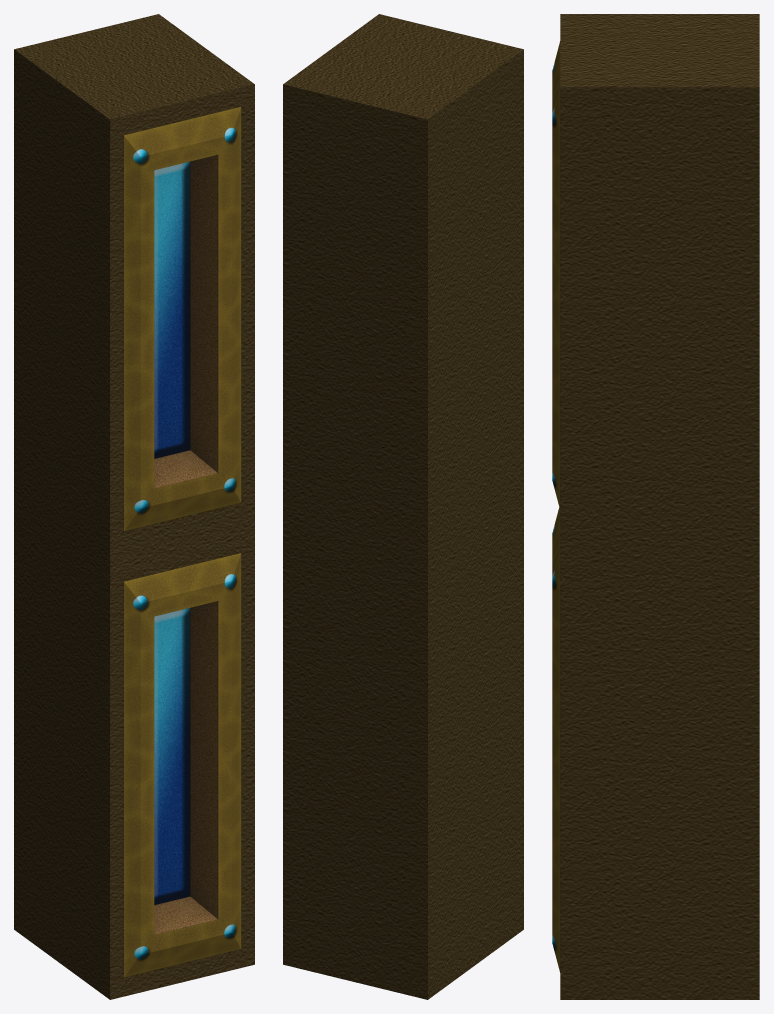
The model's file is platform.FBX.
3 renders of one model, left to right at view 1: azimuth 30°, elevation 25°; view 2: azimuth 150°, elevation 25°; view 3: azimuth 270°, elevation 25°, orthographic. The views are drawn at different scales.
Visible parts, largest first — view 1: longbar; view 2: longbar; view 3: longbar.
Part boxes in pixels (<box>): longbar: <box>14,14,254,999</box>; longbar: <box>283,14,523,999</box>; longbar: <box>552,14,759,999</box>.
Bounding box in the file's own units: 34.25 × 199 × 40.93.
